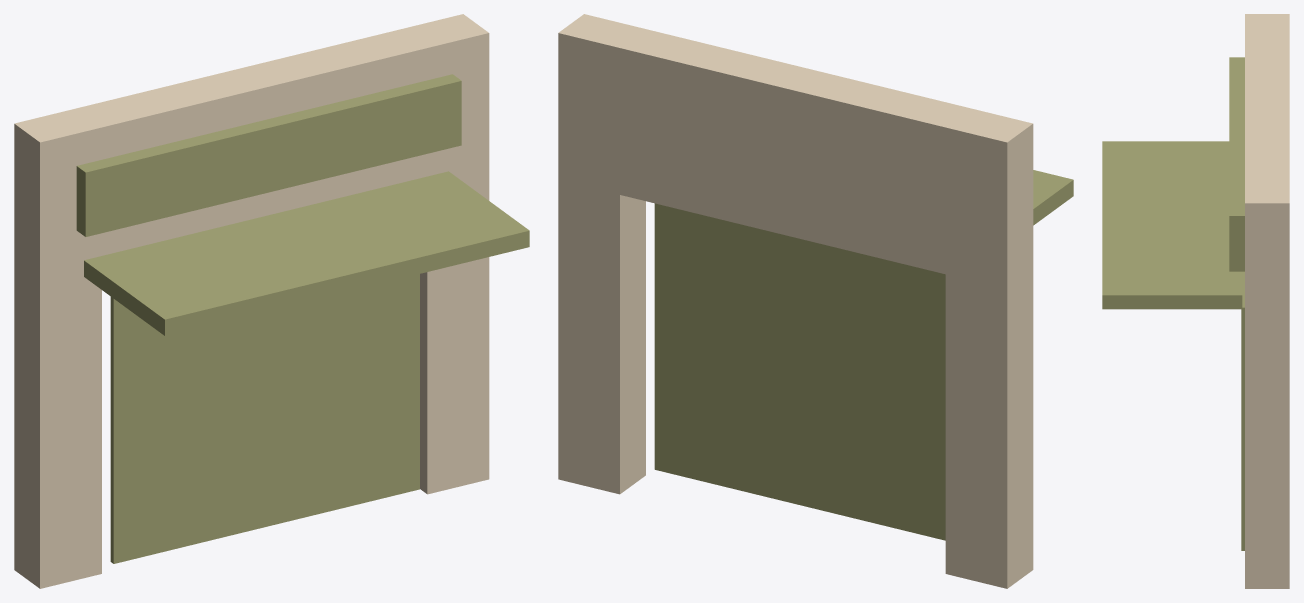
Rendered from bh_souq_shop_spice_01_lod0.glb.
3 views of the same model, side by side, from view 1: azimuth 30°, elevation 25°; view 2: azimuth 150°, elevation 25°; view 3: azimuth 270°, elevation 25° (orthographic). The views are drawn at different scales.
Visible parts, largest first — view 1: bh_souq_shop_spice_01_infill, bh_souq_shop_spice_01_left, bh_souq_shop_spice_01_awning, bh_souq_shop_spice_01_fascia, bh_souq_shop_spice_01_top, bh_souq_shop_spice_01_right; view 2: bh_souq_shop_spice_01_infill, bh_souq_shop_spice_01_top, bh_souq_shop_spice_01_left, bh_souq_shop_spice_01_right, bh_souq_shop_spice_01_awning; view 3: bh_souq_shop_spice_01_awning, bh_souq_shop_spice_01_right, bh_souq_shop_spice_01_top, bh_souq_shop_spice_01_fascia, bh_souq_shop_spice_01_left, bh_souq_shop_spice_01_infill.
Part boxes in pixels (x1,y1,x2,y2): bh_souq_shop_spice_01_infill: (110,274,419,563); bh_souq_shop_spice_01_left: (14,108,101,588); bh_souq_shop_spice_01_awning: (84,171,529,335); bh_souq_shop_spice_01_fascia: (76,74,461,236); bh_souq_shop_spice_01_top: (76,29,427,255); bh_souq_shop_spice_01_right: (402,14,489,494); bh_souq_shop_spice_01_infill: (654,203,945,540); bh_souq_shop_spice_01_top: (620,29,970,274); bh_souq_shop_spice_01_left: (945,108,1033,588); bh_souq_shop_spice_01_right: (558,14,645,494); bh_souq_shop_spice_01_awning: (1033,170,1073,225); bh_souq_shop_spice_01_awning: (1102,141,1242,309); bh_souq_shop_spice_01_right: (1245,177,1289,588); bh_souq_shop_spice_01_top: (1245,40,1289,177); bh_souq_shop_spice_01_fascia: (1229,57,1244,271); bh_souq_shop_spice_01_left: (1245,14,1289,39); bh_souq_shop_spice_01_infill: (1241,271,1244,550).
Size of the model in its own units: 4 by 3.8 by 1.68.
